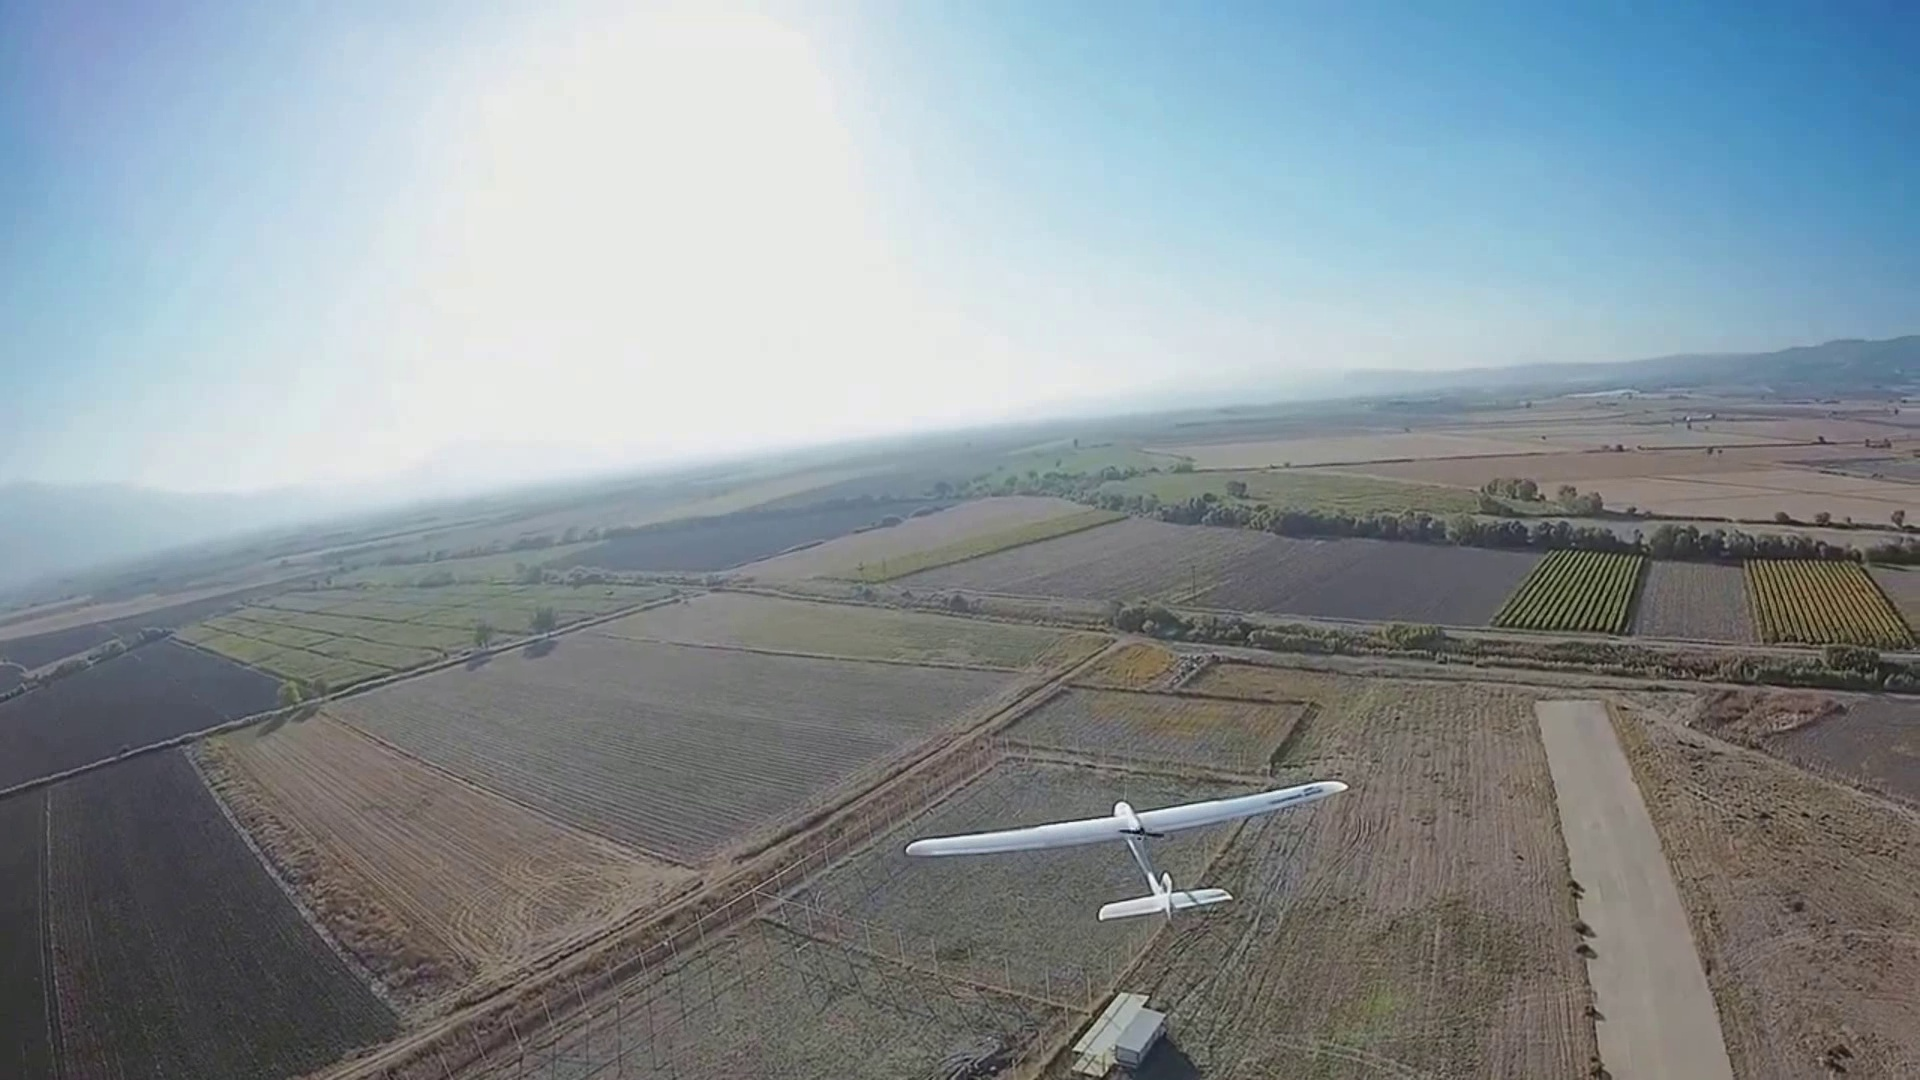airplane: (901, 774, 1346, 926)
